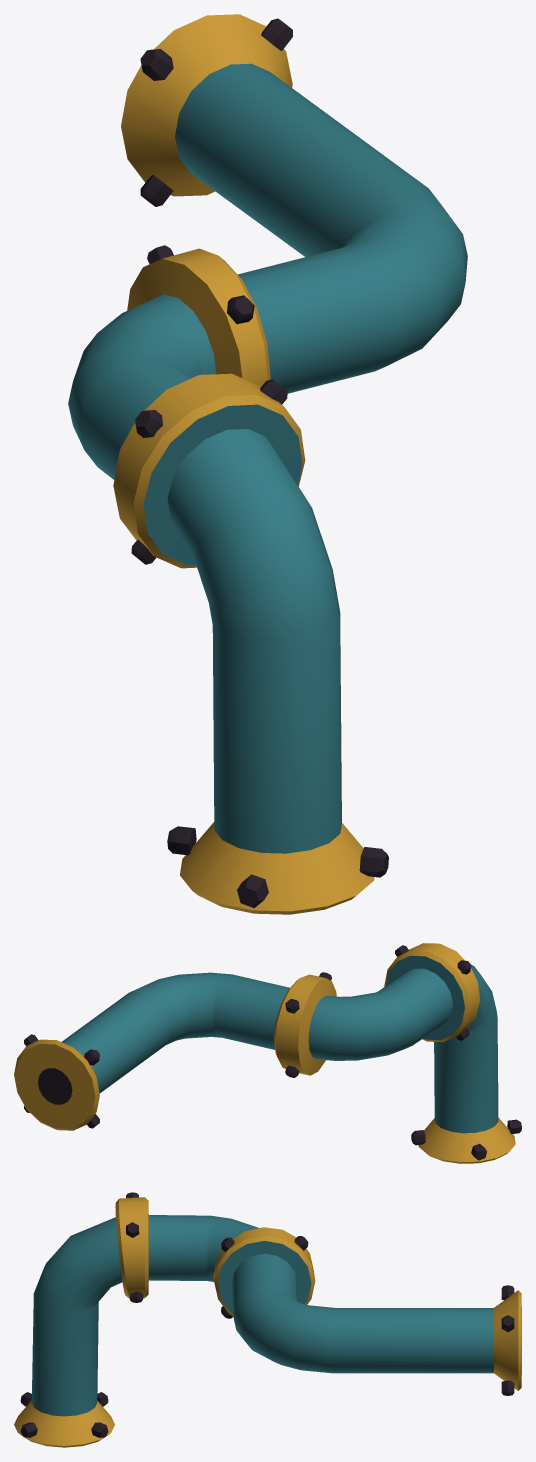
File: PipeRun_12.glb
3 renders of one model, top to bottom at view 1: azimuth 30°, elevation 25°; view 2: azimuth 150°, elevation 25°; view 3: azimuth 270°, elevation 25°, orthographic. The views are drawn at different scales.
Parts seen in each view (by area): view 1: PipeRun_12; view 2: PipeRun_12; view 3: PipeRun_12.
Boxes of the visible parts, x1,y1,x2,y2 form: PipeRun_12: (68,14,467,914); PipeRun_12: (14,943,521,1163); PipeRun_12: (14,1192,521,1447).
Size of the model in its own units: 3.44 by 2.67 by 5.44.
